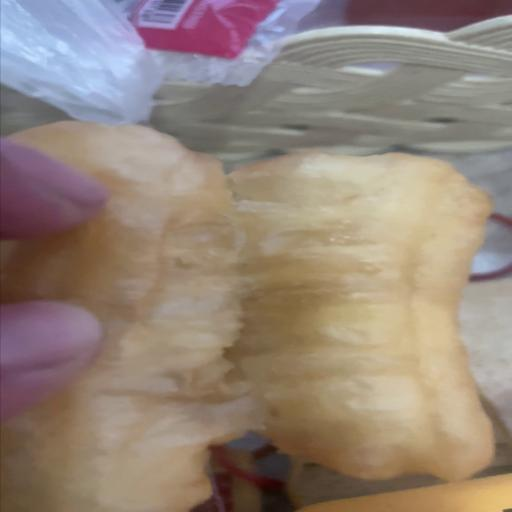street_golden_defect: (0, 146, 496, 502)
